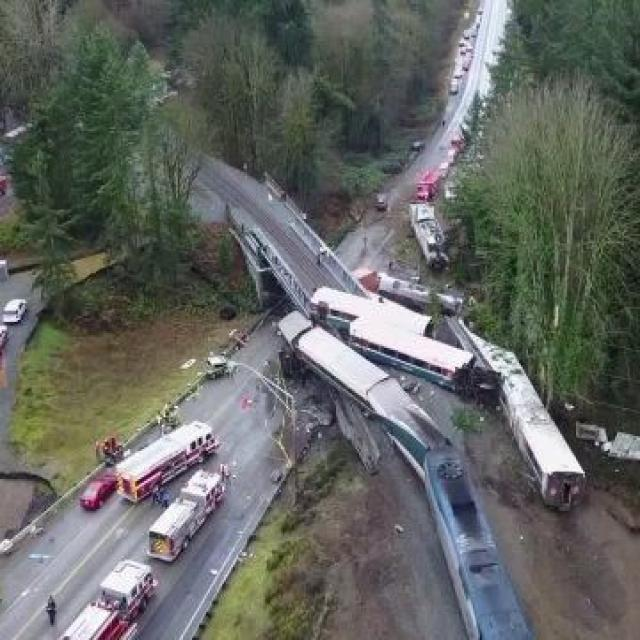traffic_incident: (252, 159, 638, 575)
